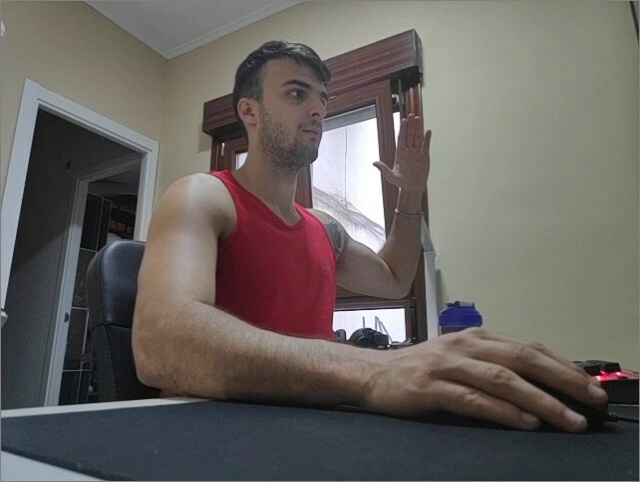Palm: (373, 113, 433, 194)
